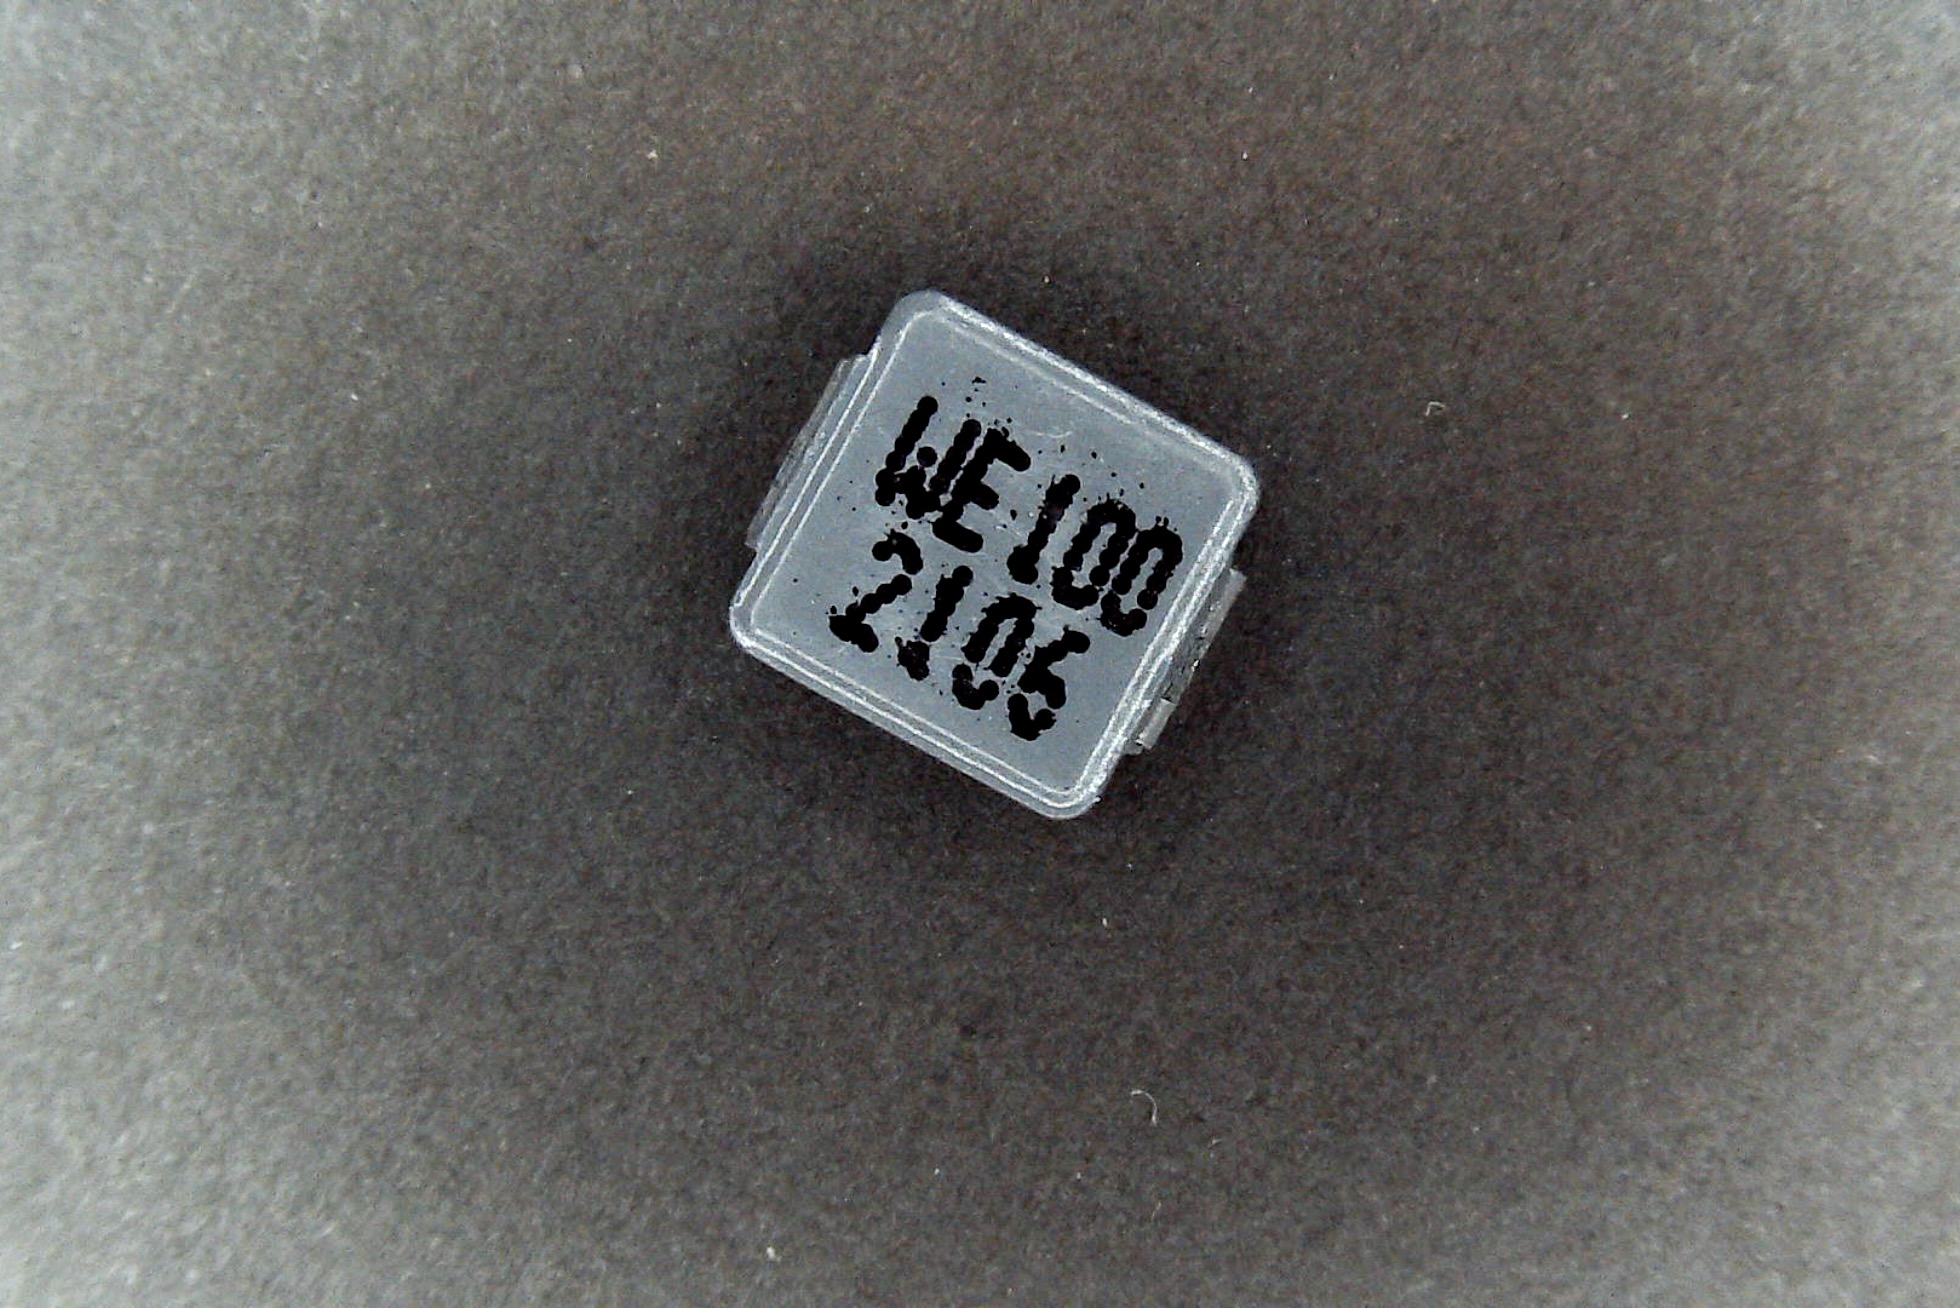bbox: (727, 292, 1262, 825)
